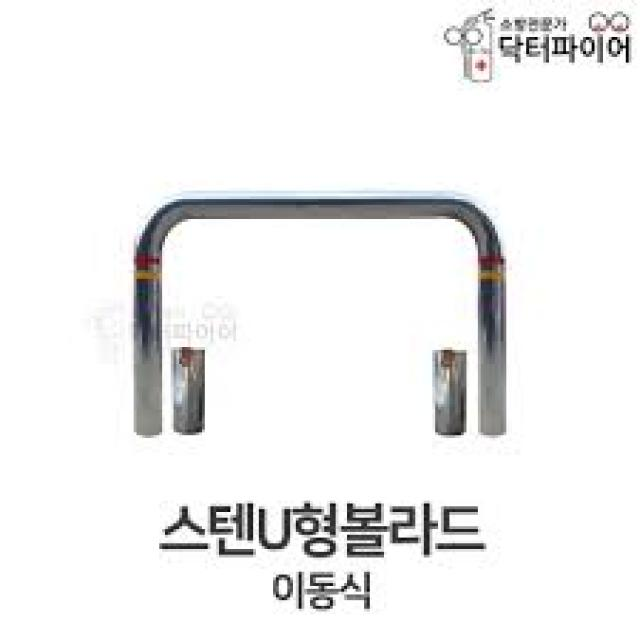bollard: (121, 184, 523, 446)
